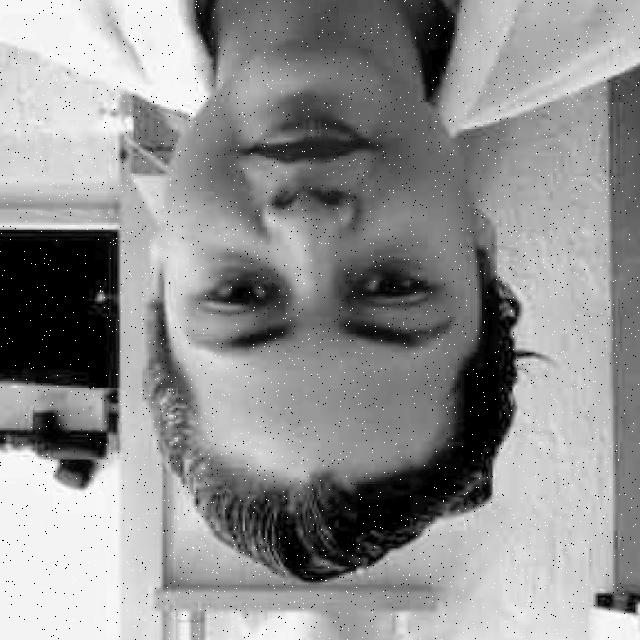puffy_eyes: (208, 255, 284, 280)
